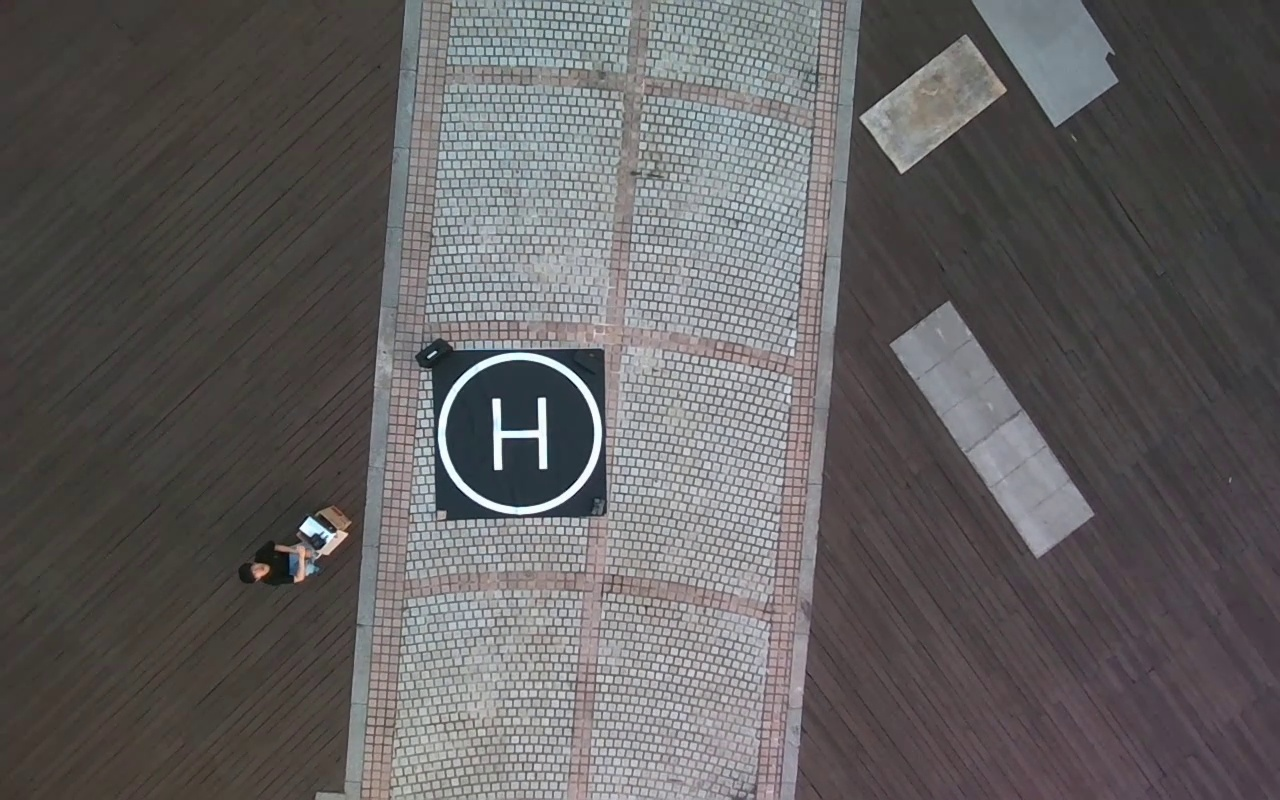H: (488, 396, 547, 471)
heliport: (436, 354, 602, 510)
